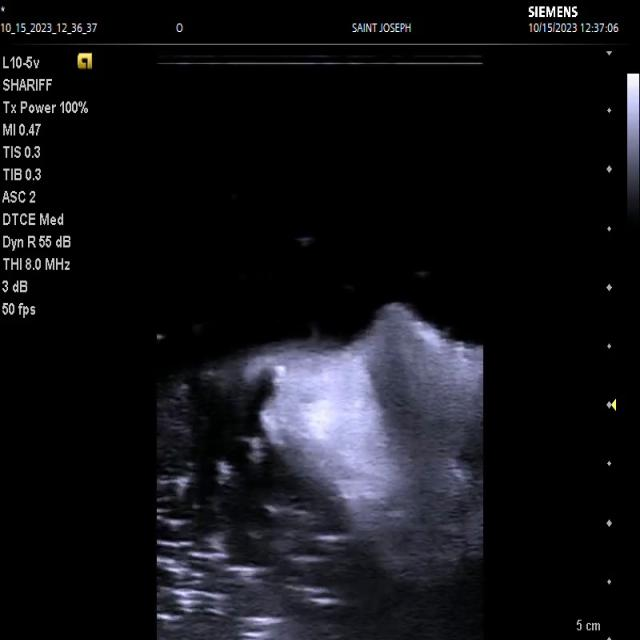tissue: (249, 300, 484, 595)
